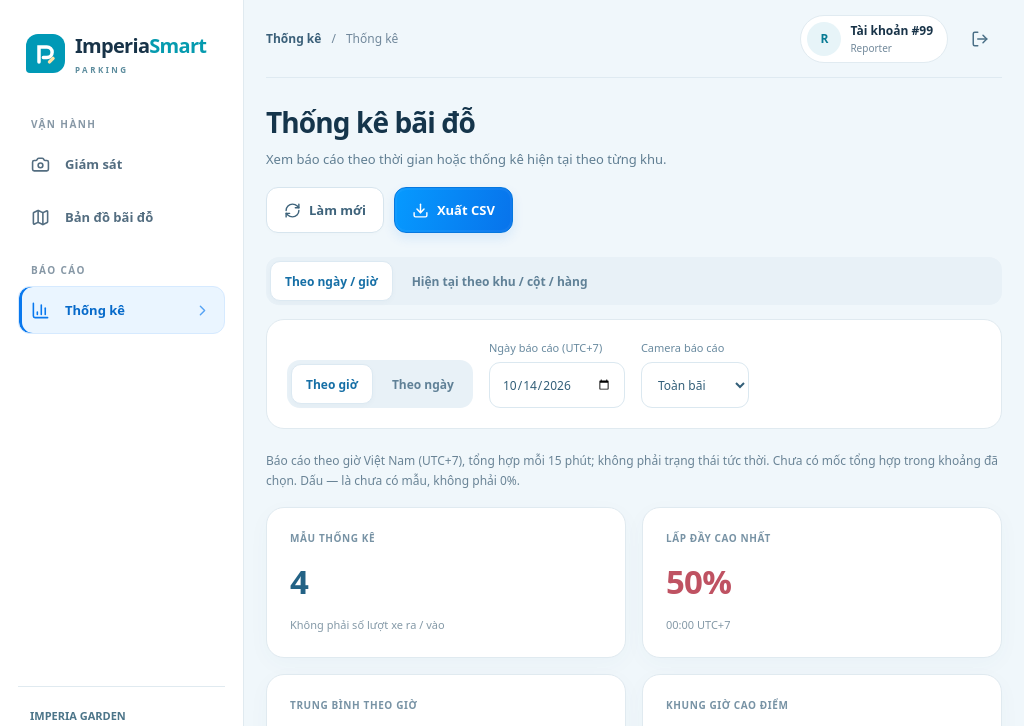
Test case: hourly and daily report filters › requests daily reports with the backend aliases and optional camera
Step 1. Click the button "Theo ngày" → {"x": 423, "y": 384}, box [377, 364, 469, 404]
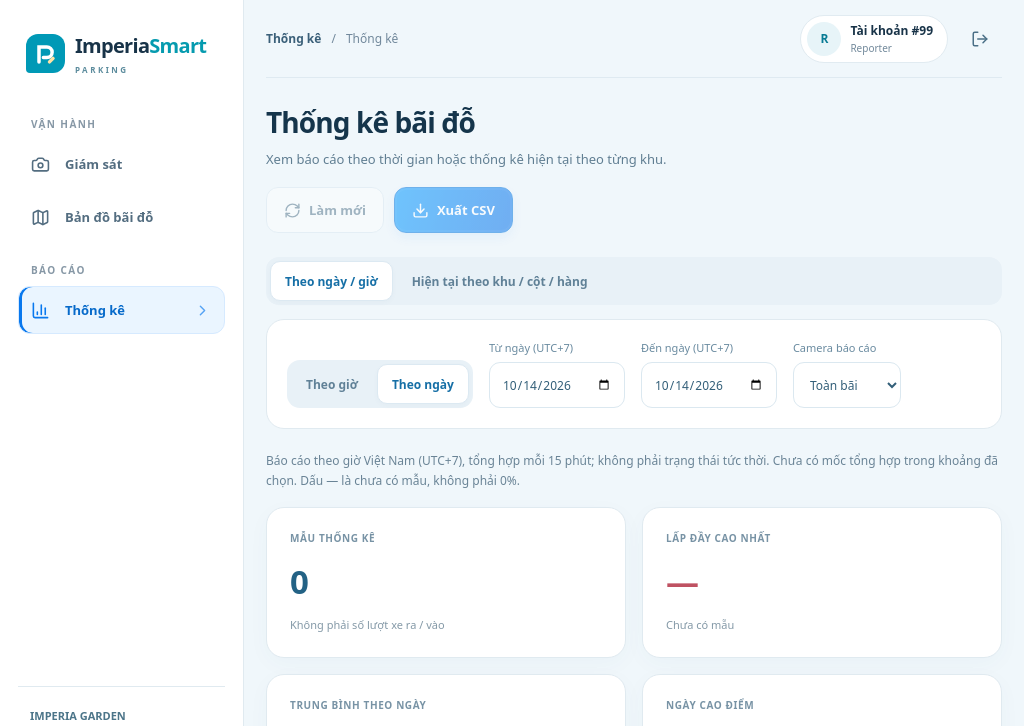
Step 2. Type "2026-10-01" into the date field labelled "Từ ngày (UTC+7)" → {"x": 557, "y": 385}, box [489, 362, 625, 408]
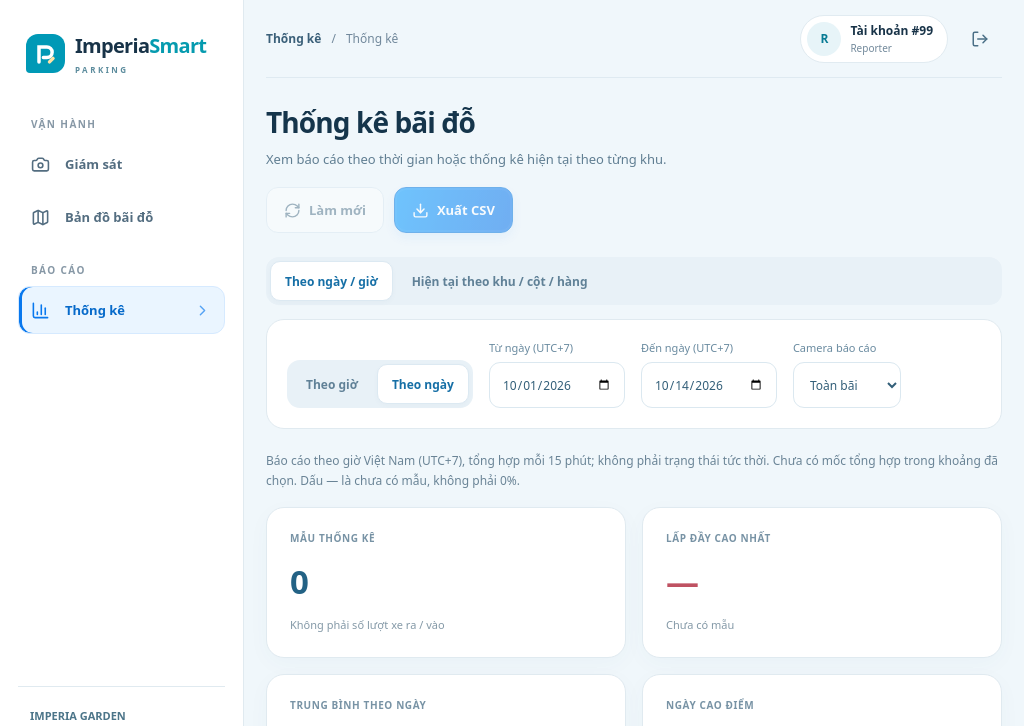
Step 3. Type "2026-10-07" into the date field labelled "Đến ngày (UTC+7)" → {"x": 709, "y": 385}, box [641, 362, 777, 408]
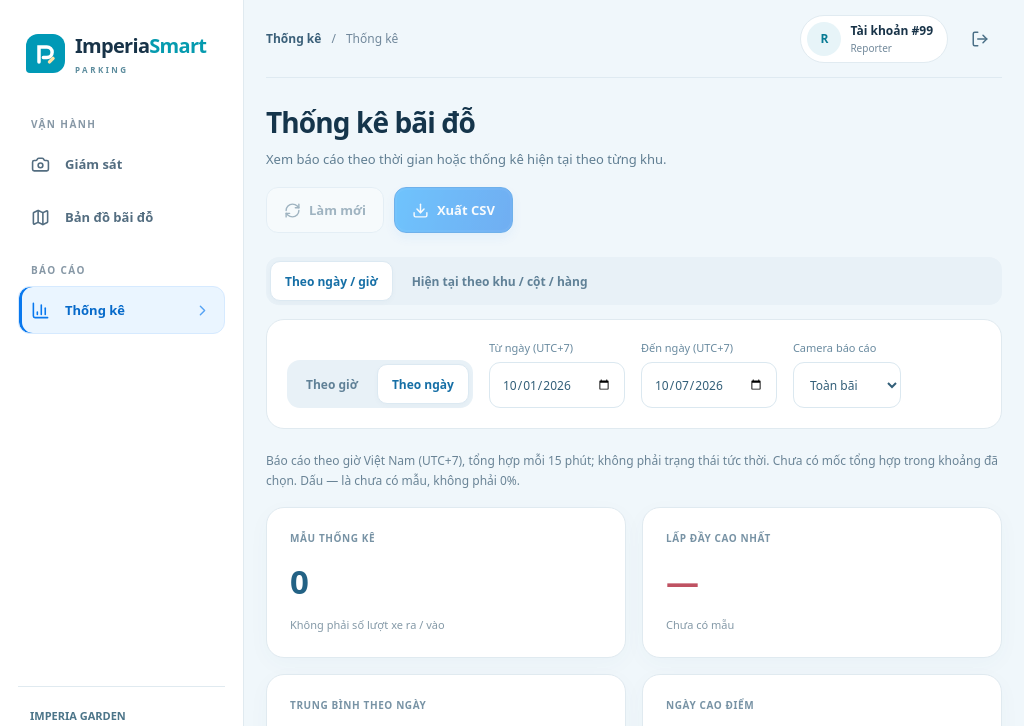
Step 4. Select "Camera #7" in the dropdown labelled "Camera báo cáo" → {"x": 847, "y": 385}, box [793, 362, 901, 408]
(page scrolled)
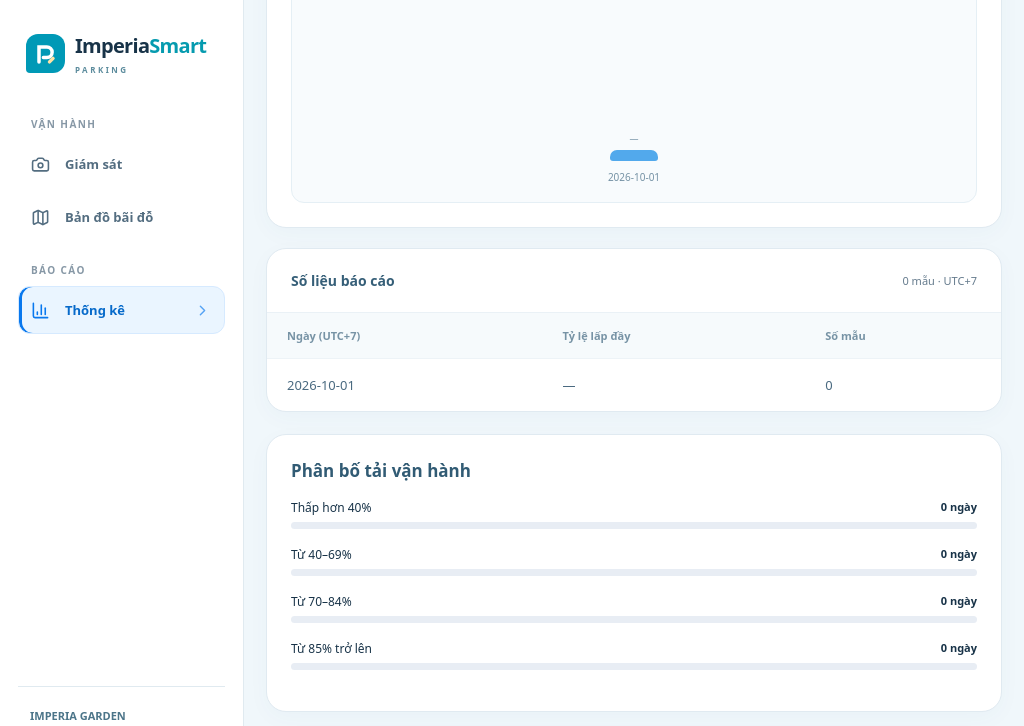
Expected: the text "2026-10-01" is shown, [267, 358, 543, 411]
